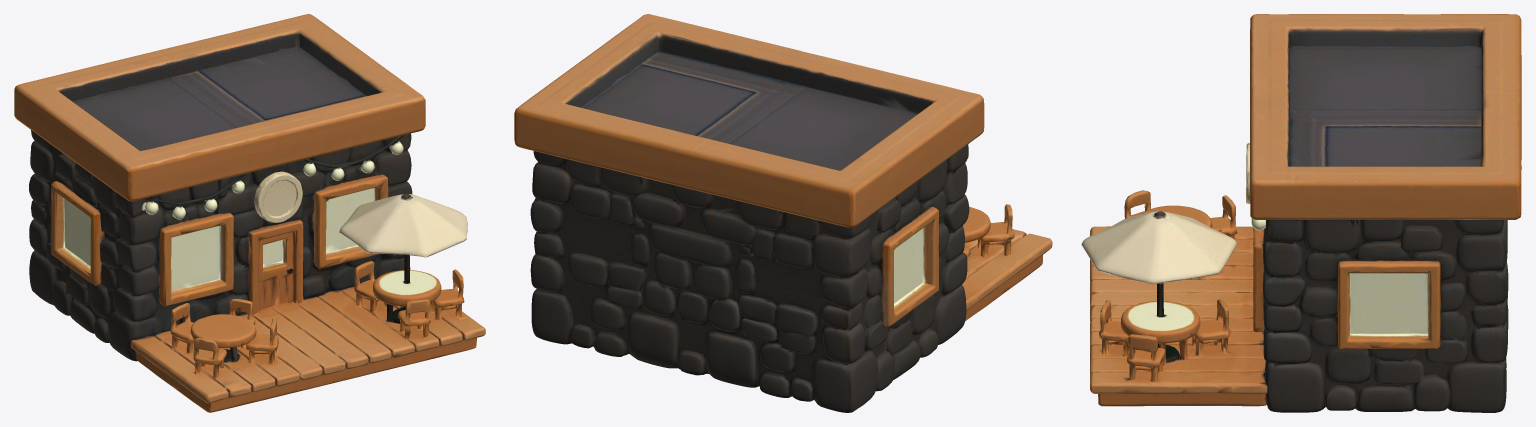
File: shop-stone.glb
The picture shows the model from 3 angles, left to right: view 1: azimuth 30°, elevation 25°; view 2: azimuth 150°, elevation 25°; view 3: azimuth 270°, elevation 25°; orthographic projection. The views are drawn at different scales.
Visible parts, largest first — view 1: tripo_node_2e9530f6-162c-4208-b340-92b961d9f5ad; view 2: tripo_node_2e9530f6-162c-4208-b340-92b961d9f5ad; view 3: tripo_node_2e9530f6-162c-4208-b340-92b961d9f5ad.
Boxes of the visible parts, x1,y1,x2,y2 form: tripo_node_2e9530f6-162c-4208-b340-92b961d9f5ad: [14, 14, 485, 412]; tripo_node_2e9530f6-162c-4208-b340-92b961d9f5ad: [514, 14, 1052, 412]; tripo_node_2e9530f6-162c-4208-b340-92b961d9f5ad: [1081, 14, 1521, 412].
Size of the model in its own units: 0.8958 by 0.5885 by 0.9813.
Materials: 1 (1 with a texture image).
